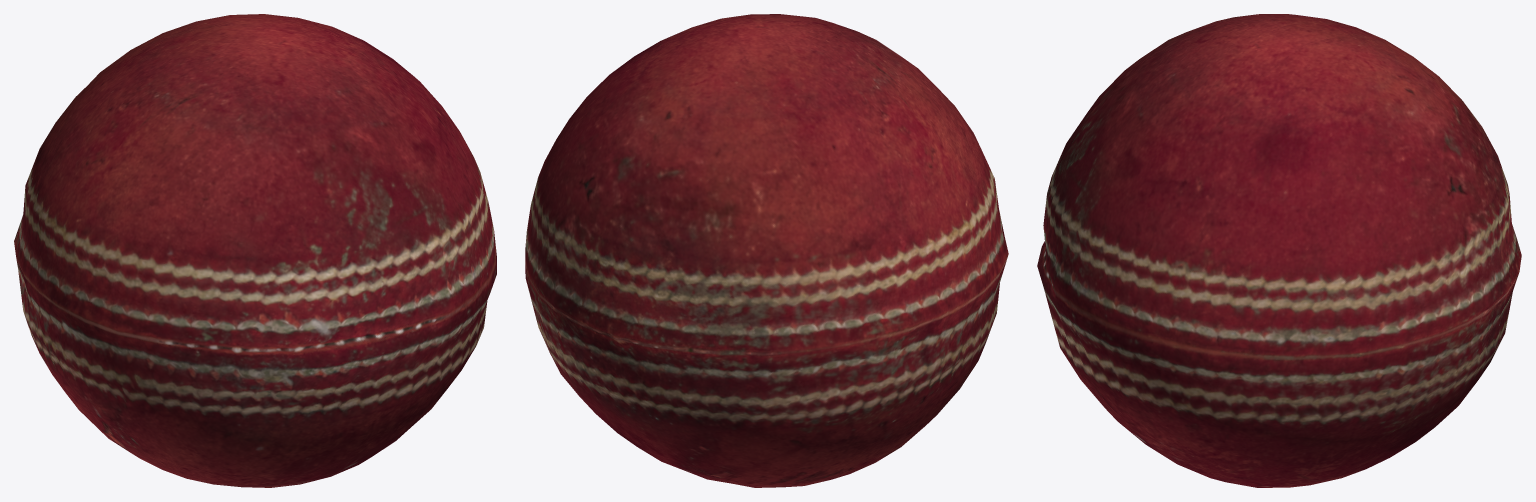
The model's file is ball.glb.
The picture shows the model from 3 angles, left to right: view 1: azimuth 30°, elevation 25°; view 2: azimuth 150°, elevation 25°; view 3: azimuth 270°, elevation 25°; orthographic projection.
Parts seen in each view (by area): view 1: Cricket Ball Low_0; view 2: Cricket Ball Low_0; view 3: Cricket Ball Low_0.
Boxes of the visible parts, x1,y1,x2,y2 form: Cricket Ball Low_0: (14, 14, 496, 487); Cricket Ball Low_0: (525, 14, 1008, 487); Cricket Ball Low_0: (1037, 14, 1521, 487).
Bounding box in the file's own units: 0.0747 × 0.0733 × 0.075.
Materials: 1 (1 with a texture image).
